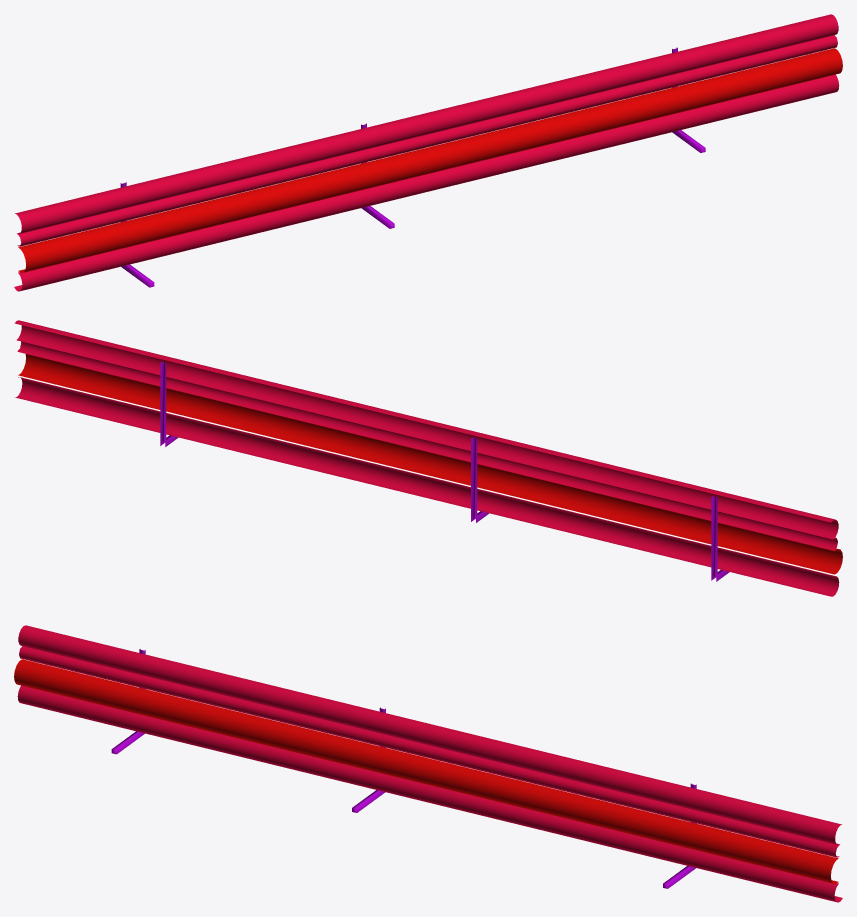
Rendered from TopSide_Triple_Pipes.FBX.
3 renders of one model, top to bottom at view 1: azimuth 30°, elevation 25°; view 2: azimuth 150°, elevation 25°; view 3: azimuth 330°, elevation 25°, orthographic.
Parts seen in each view (by area): view 1: TopSide_Triple_Pipes; view 2: TopSide_Triple_Pipes; view 3: TopSide_Triple_Pipes.
Part boxes in pixels (x1=…): TopSide_Triple_Pipes: x1=14, y1=14, x2=842, y2=291; TopSide_Triple_Pipes: x1=14, y1=320, x2=842, y2=596; TopSide_Triple_Pipes: x1=14, y1=625, x2=842, y2=902.
Size of the model in its own units: 5 by 0.4909 by 0.3053.
